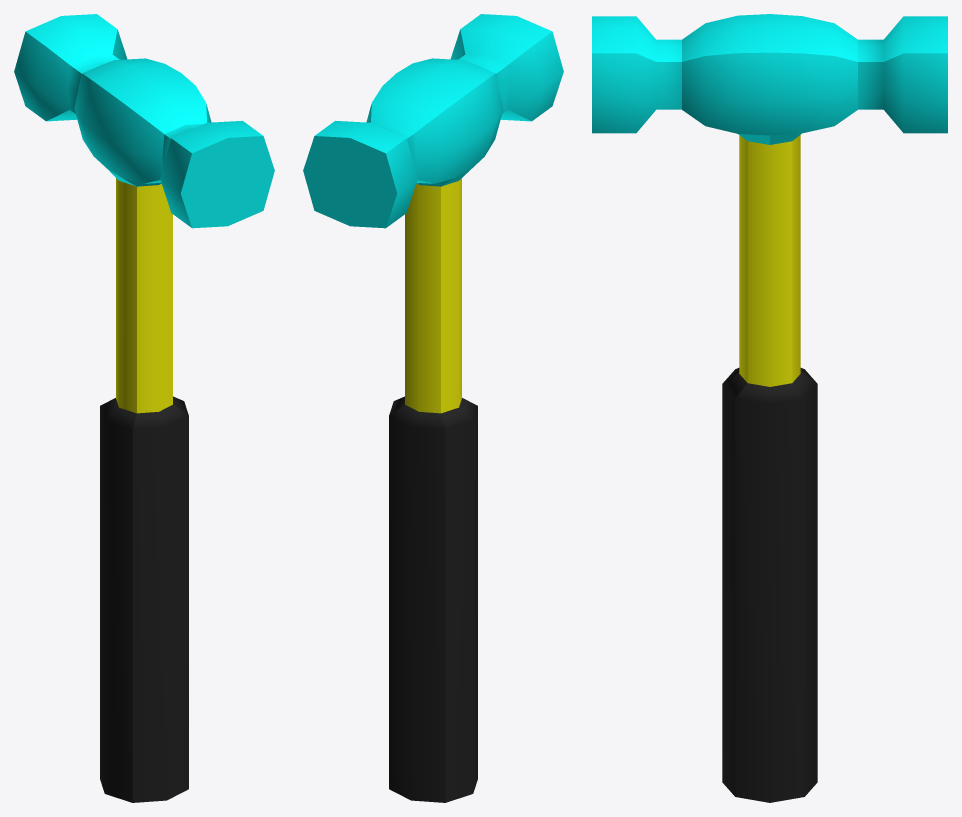
Rendered from TextureHammer.obj.
3 renders of one model, left to right at view 1: azimuth 30°, elevation 25°; view 2: azimuth 150°, elevation 25°; view 3: azimuth 270°, elevation 25°, orthographic. The views are drawn at different scales.
Visible parts, largest first — view 1: Hammer_Mesh; view 2: Hammer_Mesh; view 3: Hammer_Mesh.
Part boxes in pixels (x1,y1,x2,y2): Hammer_Mesh: [14, 14, 274, 802]; Hammer_Mesh: [303, 14, 563, 802]; Hammer_Mesh: [592, 14, 947, 802].
Bounding box in the file's own units: 1.75 × 12.01 × 5.12.
